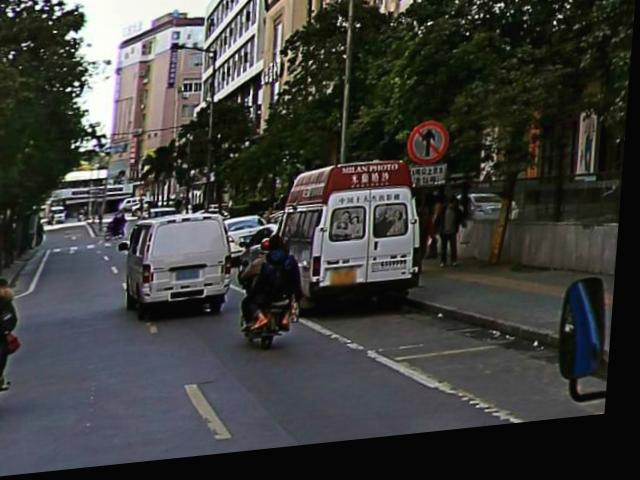not_go_straight: (405, 124, 459, 182)
